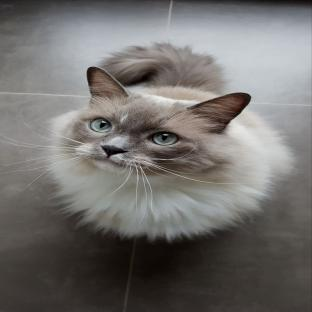Animal: (16, 44, 294, 241)
